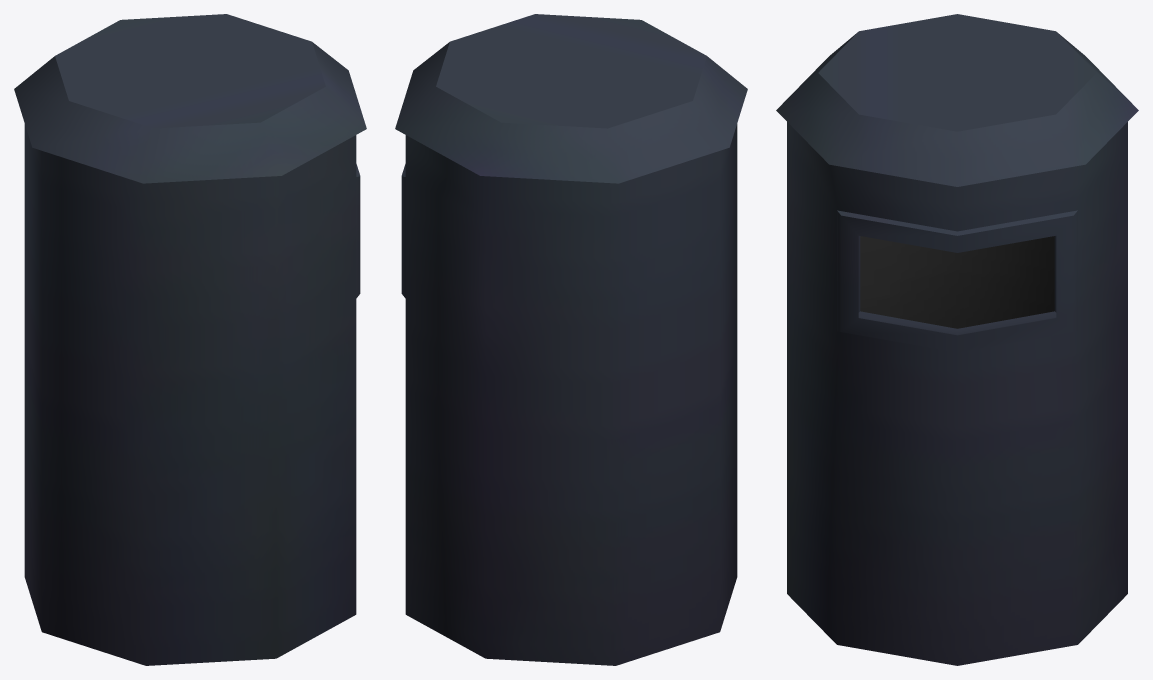
File: trash-can.glb
3 renders of one model, left to right at view 1: azimuth 30°, elevation 25°; view 2: azimuth 150°, elevation 25°; view 3: azimuth 270°, elevation 25°, orthographic.
Visible parts, largest first — view 1: trash_can; view 2: trash_can; view 3: trash_can.
Boxes of the visible parts, box(x1,y1,x2,y2) form: trash_can: box(14, 14, 366, 665); trash_can: box(395, 14, 747, 665); trash_can: box(776, 14, 1138, 665).
Size of the model in its own units: 0.4674 by 0.7405 by 0.4674.
Materials: 1 (1 with a texture image).
